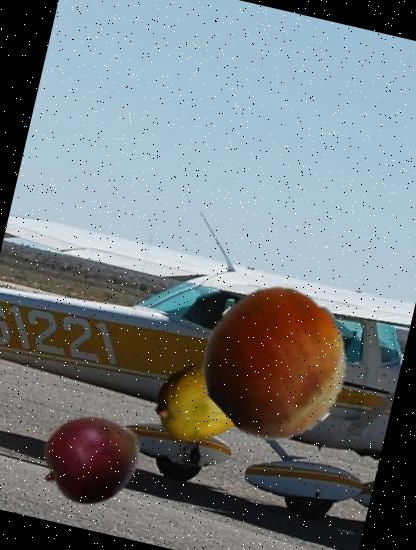Mango: (29, 395, 154, 521)
Nut: (188, 274, 366, 452)
Papaya: (144, 332, 276, 464)
